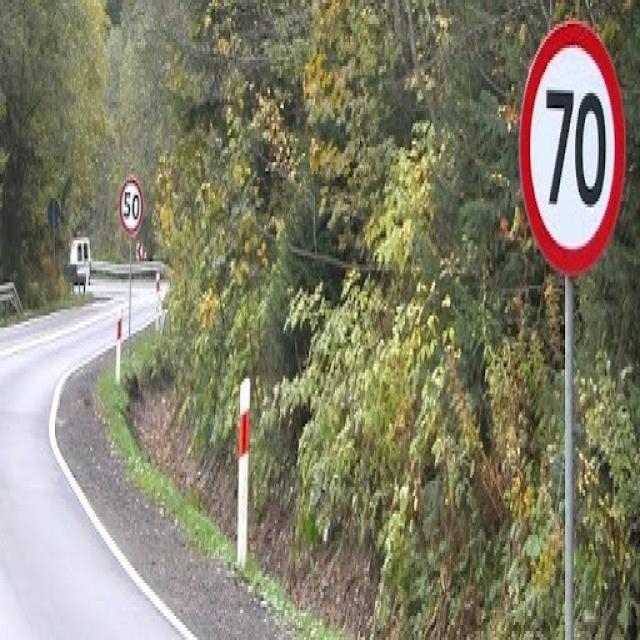speed limit 50: (115, 177, 146, 239)
speed limit 70: (516, 23, 631, 274)
